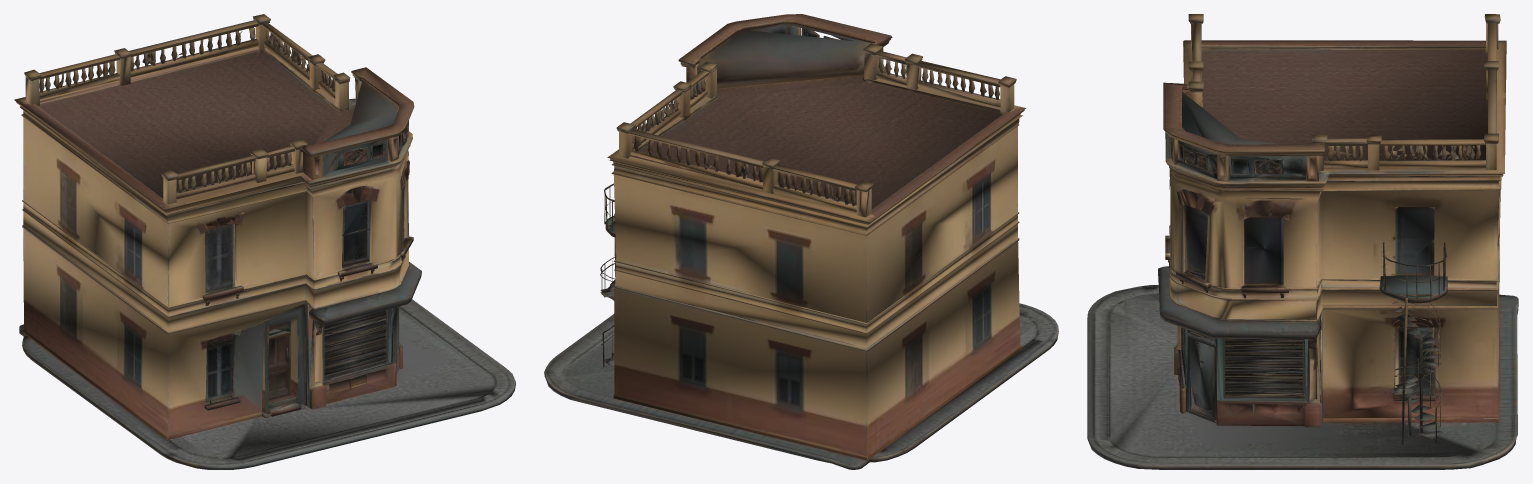
3 renders of one model, left to right at view 1: azimuth 30°, elevation 25°; view 2: azimuth 150°, elevation 25°; view 3: azimuth 270°, elevation 25°, orthographic. The views are drawn at different scales.
Size of the model in its own units: 0.9502 by 0.6988 by 0.9531.
1 material, 1 textured.
